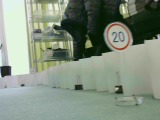speed_20: (102, 19, 134, 51)
